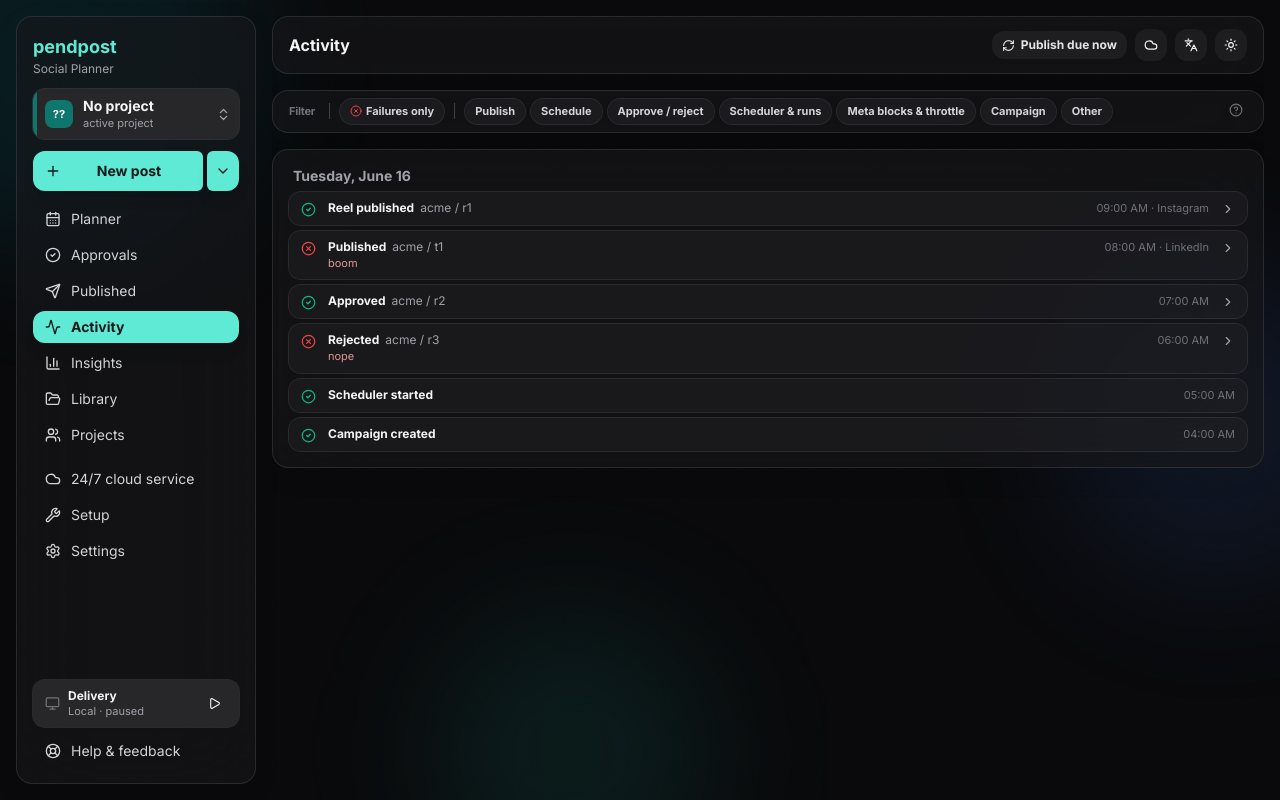
Scenario: App filter bar wiring (C7) › activating failures-only sets aria-pressed=true and hides successes
What coordinates should you click on to do the following:
click the button "Failures only"
I would click on:
 (392, 111)
Its box is 340,99 -> 444,124.
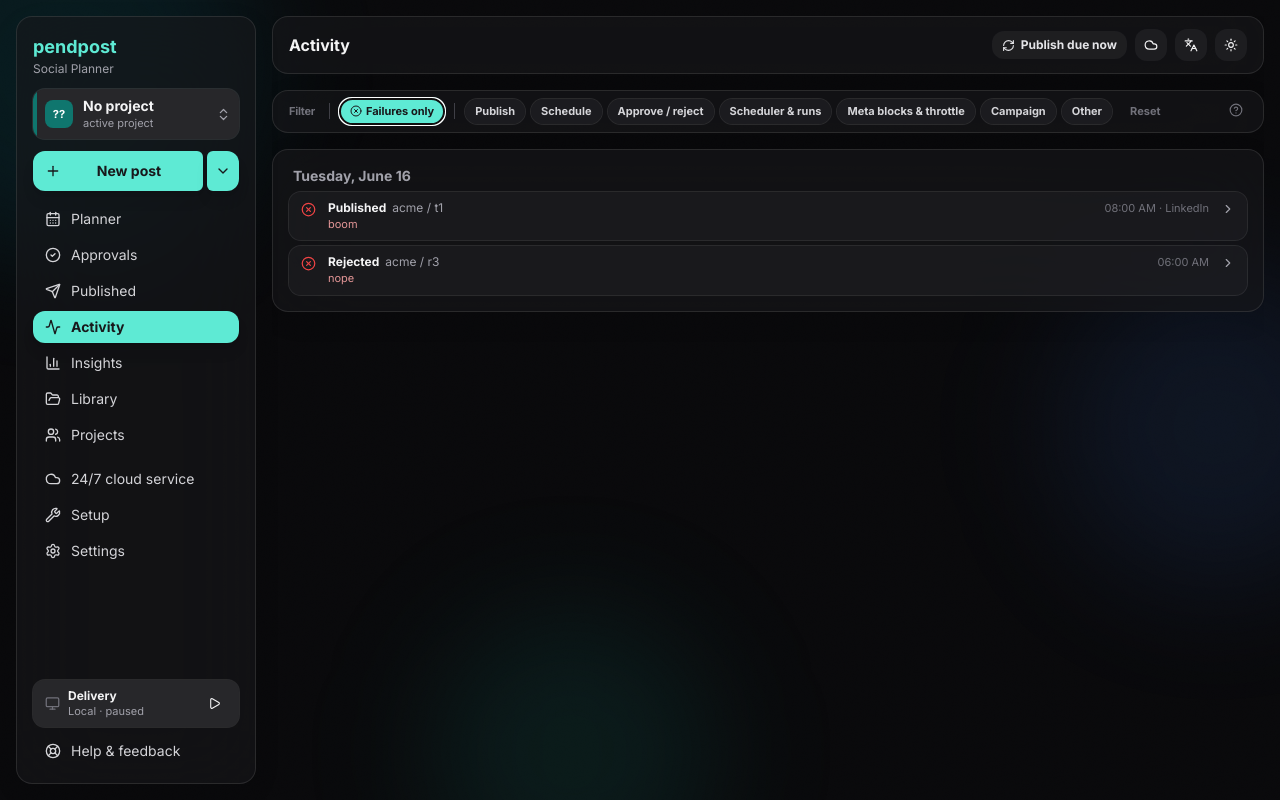
Check: the text "Published" is shown, box 328,200 -> 386,214
Check: the button "Reel published" is gone
